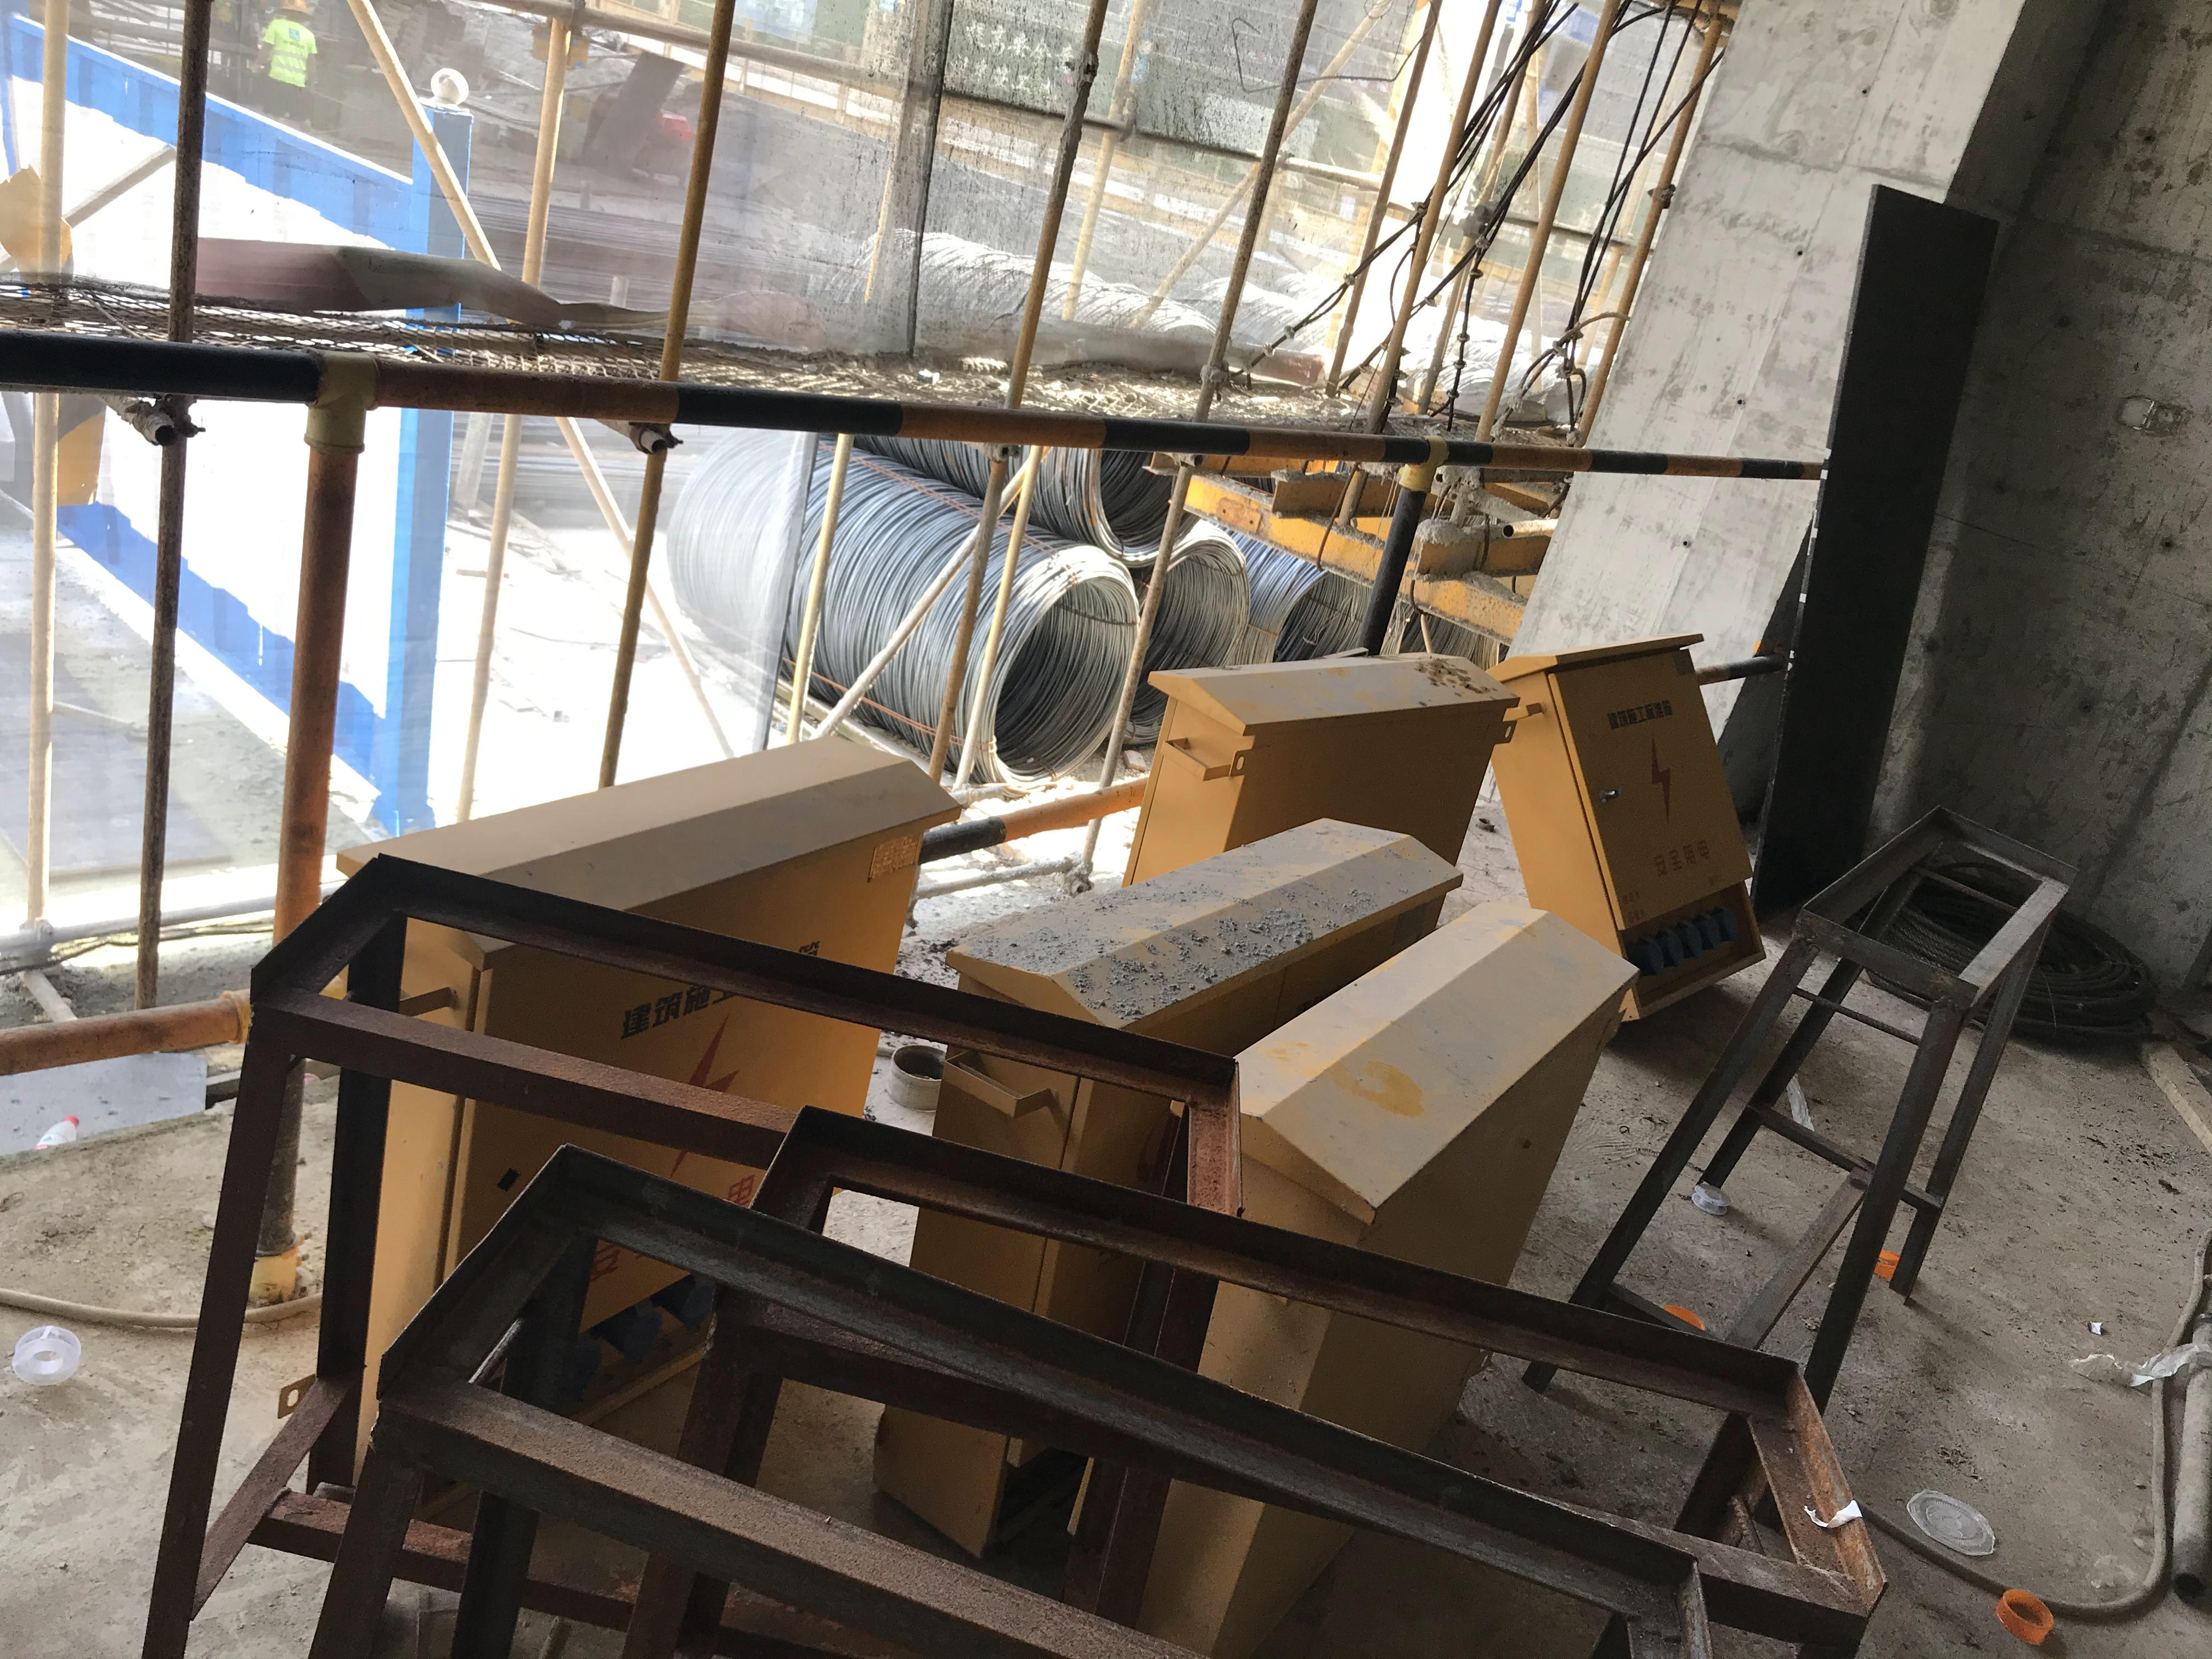ebox: (979, 836, 1564, 1586), (345, 767, 935, 1377), (1501, 643, 1768, 1012), (1151, 652, 1507, 843)
